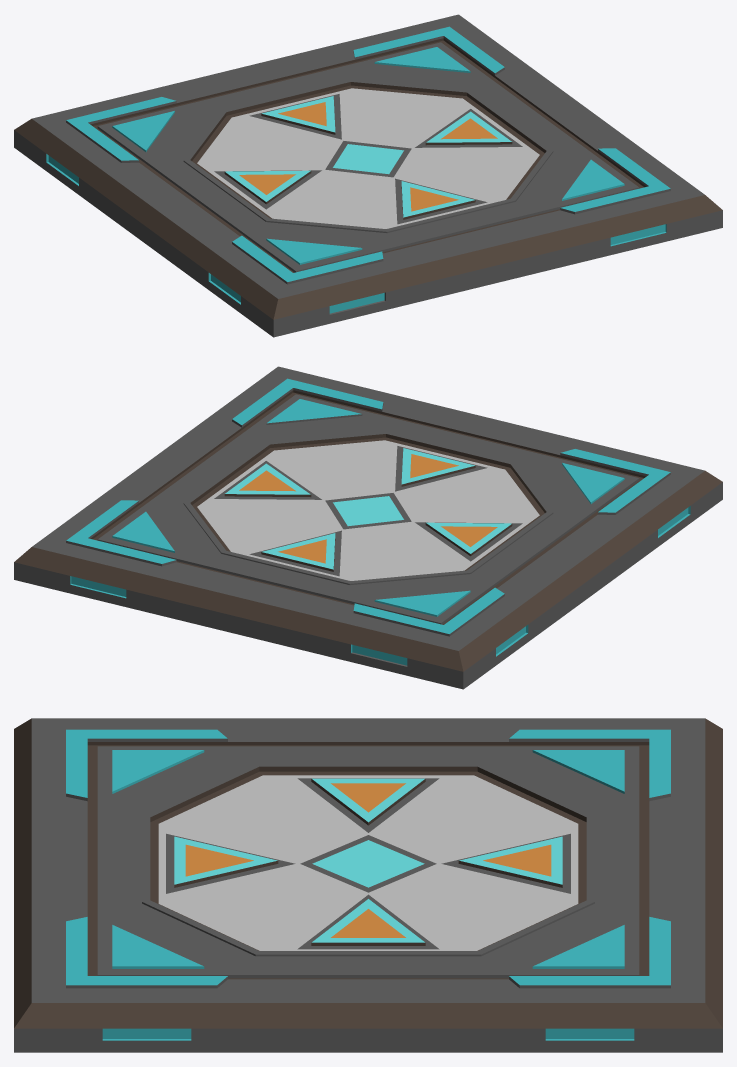
File: JumperMaterial2.0.fbx
The picture shows the model from 3 angles, top to bottom: view 1: azimuth 30°, elevation 25°; view 2: azimuth 150°, elevation 25°; view 3: azimuth 270°, elevation 25°; orthographic projection. The views are drawn at different scales.
Parts seen in each view (by area): view 1: Plateform; view 2: Plateform; view 3: Plateform.
Boxes of the visible parts, bbox=[...] form: Plateform: bbox=[14, 14, 722, 337]; Plateform: bbox=[14, 366, 722, 689]; Plateform: bbox=[14, 718, 722, 1052].
Bounding box in the file's own units: 400 × 28.3 × 400.
